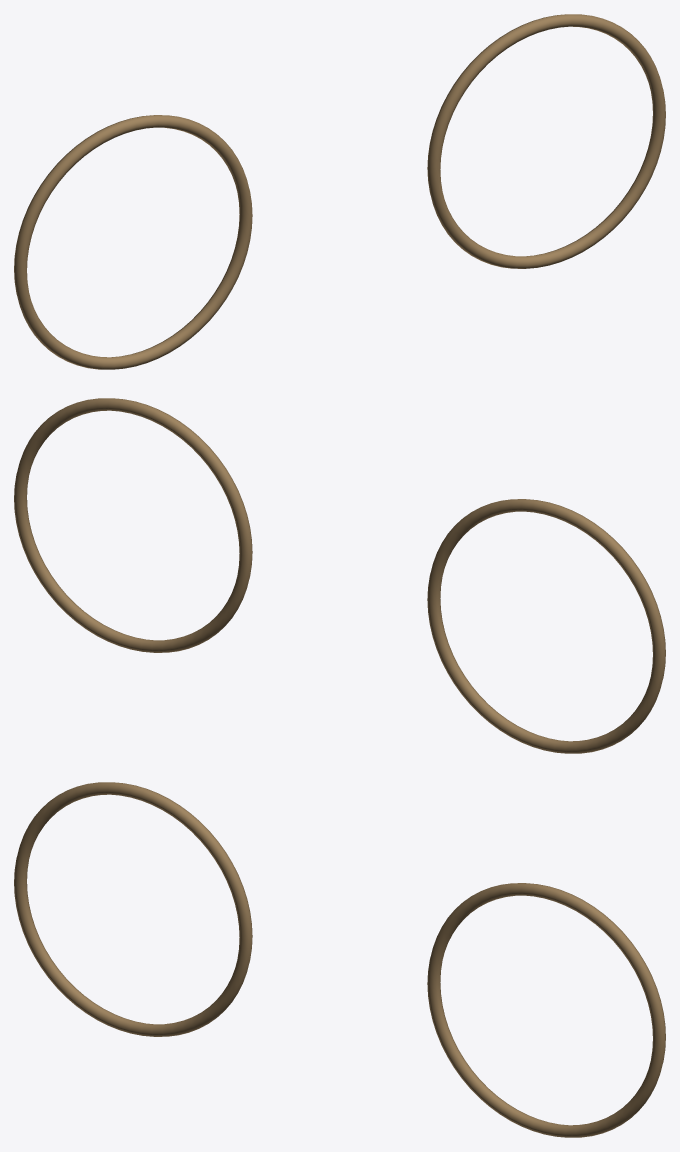
Rendered from tires-tan.glb.
The picture shows the model from 3 angles, top to bottom: view 1: azimuth 30°, elevation 25°; view 2: azimuth 150°, elevation 25°; view 3: azimuth 330°, elevation 25°; orthographic projection.
Bounding box in the file's own units: 1.56 × 0.568 × 0.028.
